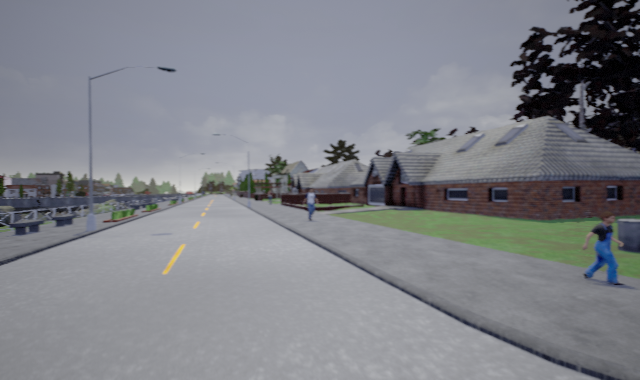pedestrian: (578, 210, 625, 288), (303, 185, 320, 221)
